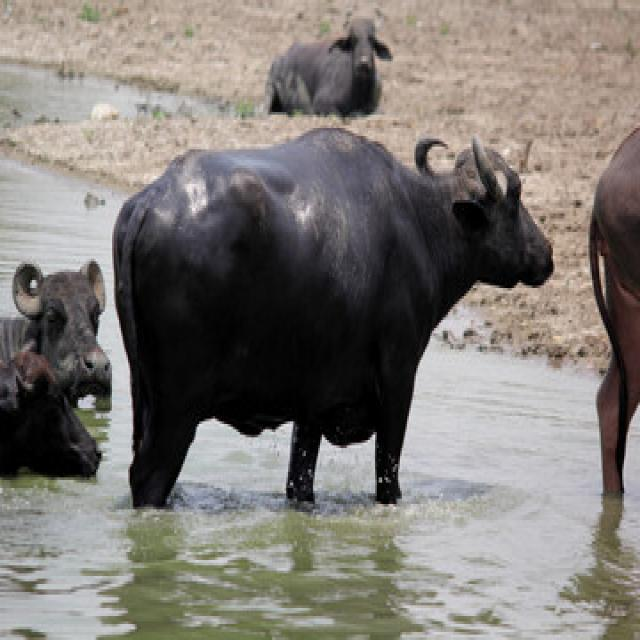Buffalo: (112, 132, 556, 509), (585, 125, 640, 491), (0, 257, 110, 421), (265, 14, 393, 118)
